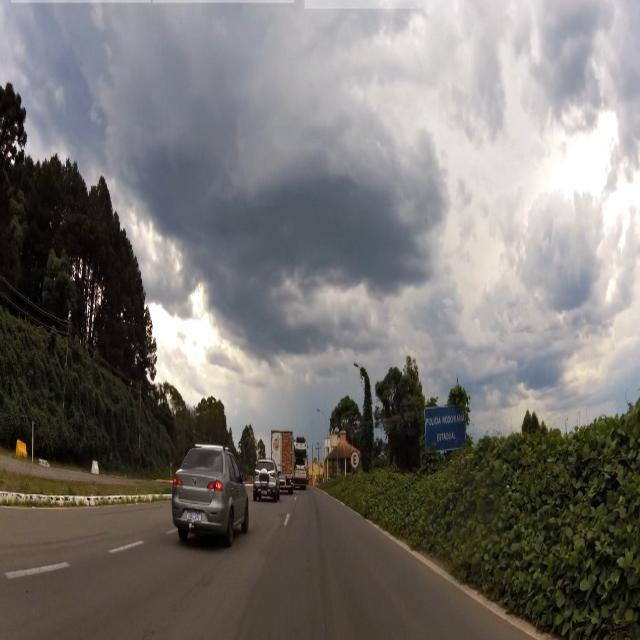LOC-6: (427, 408, 465, 449)
R-6b: (351, 449, 359, 469)
